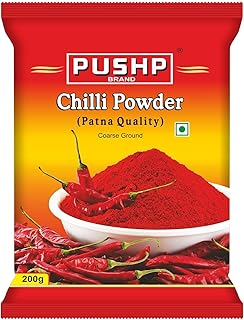Chilli Powder: (1, 2, 244, 319)
